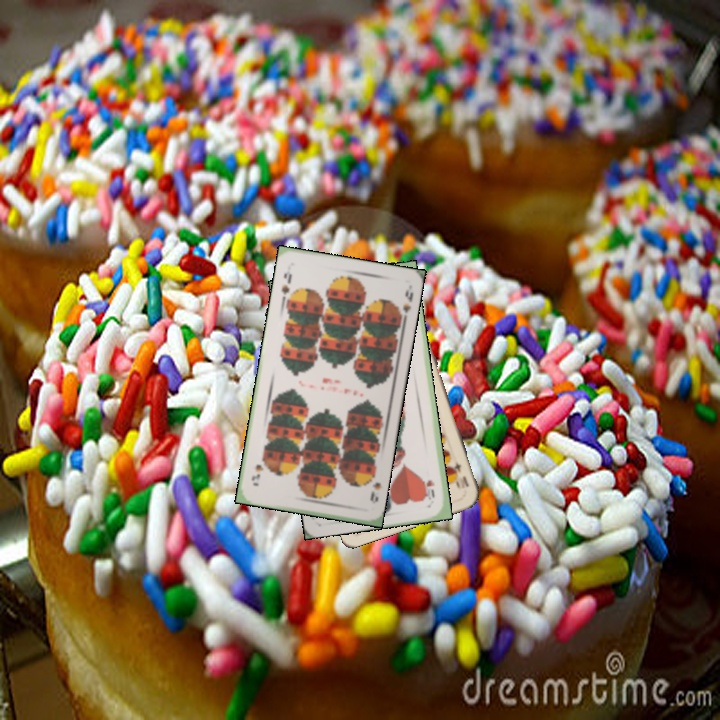E10: (448, 458, 472, 490)
HO: (422, 476, 437, 502)
S9: (364, 468, 384, 504), (277, 267, 294, 297)
